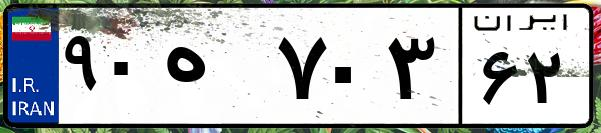0: (330, 28, 385, 110), (110, 28, 158, 98)
2: (525, 38, 570, 115)
3: (385, 28, 445, 110)
6: (475, 38, 525, 113)
7: (270, 28, 330, 110)
9: (57, 26, 110, 100)
ه: (158, 20, 270, 120)
